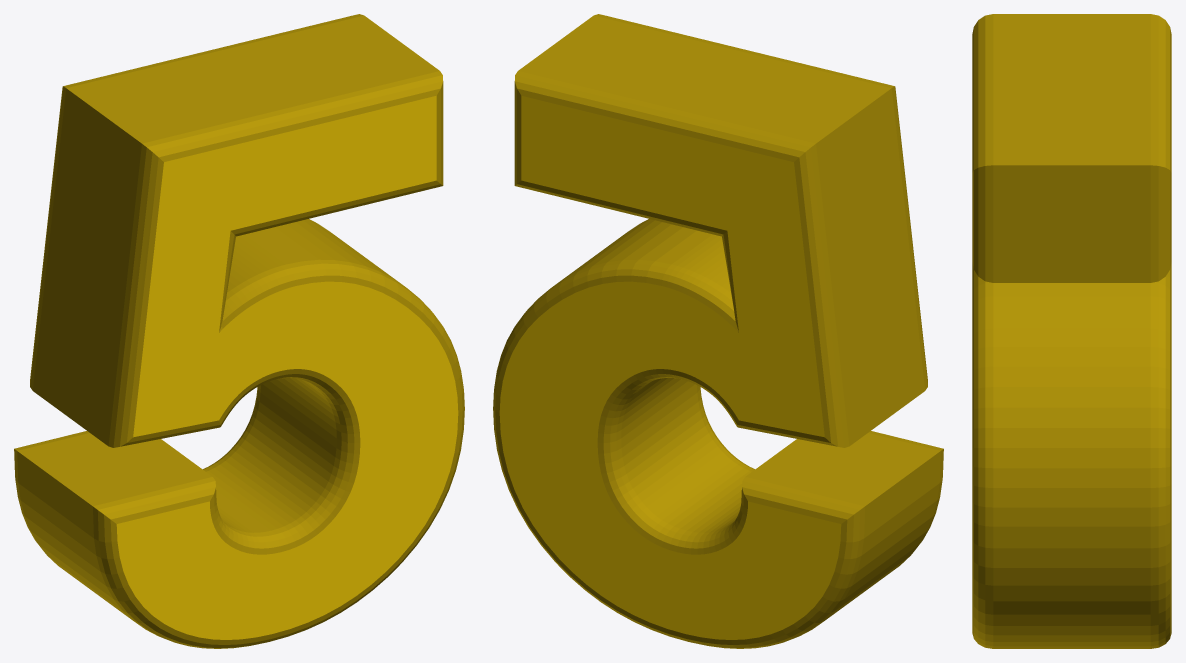
3 renders of one model, left to right at view 1: azimuth 30°, elevation 25°; view 2: azimuth 150°, elevation 25°; view 3: azimuth 270°, elevation 25°, orthographic. The views are drawn at different scales.
Bounding box in the file's own units: 0.9558 × 1.3 × 0.43.
